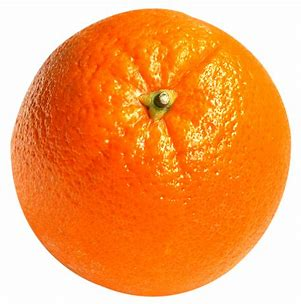orange: (6, 7, 291, 295)
